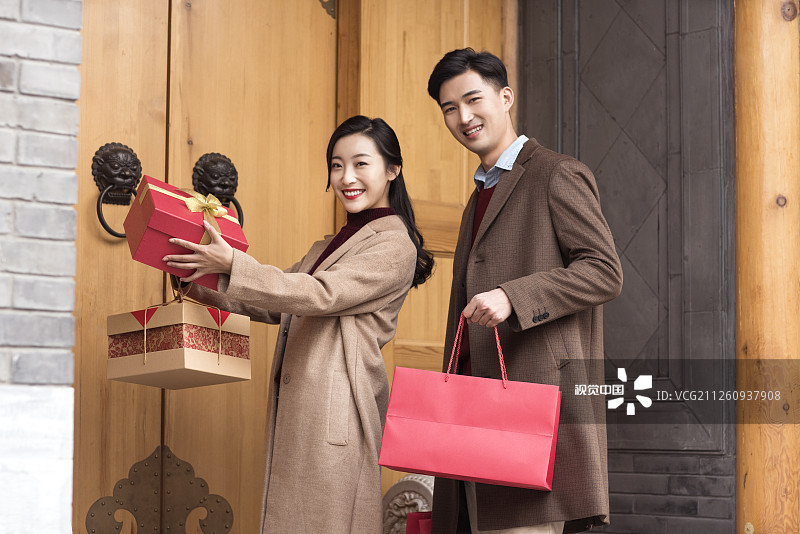no-phone: (157, 213, 240, 292), (457, 278, 518, 335)
